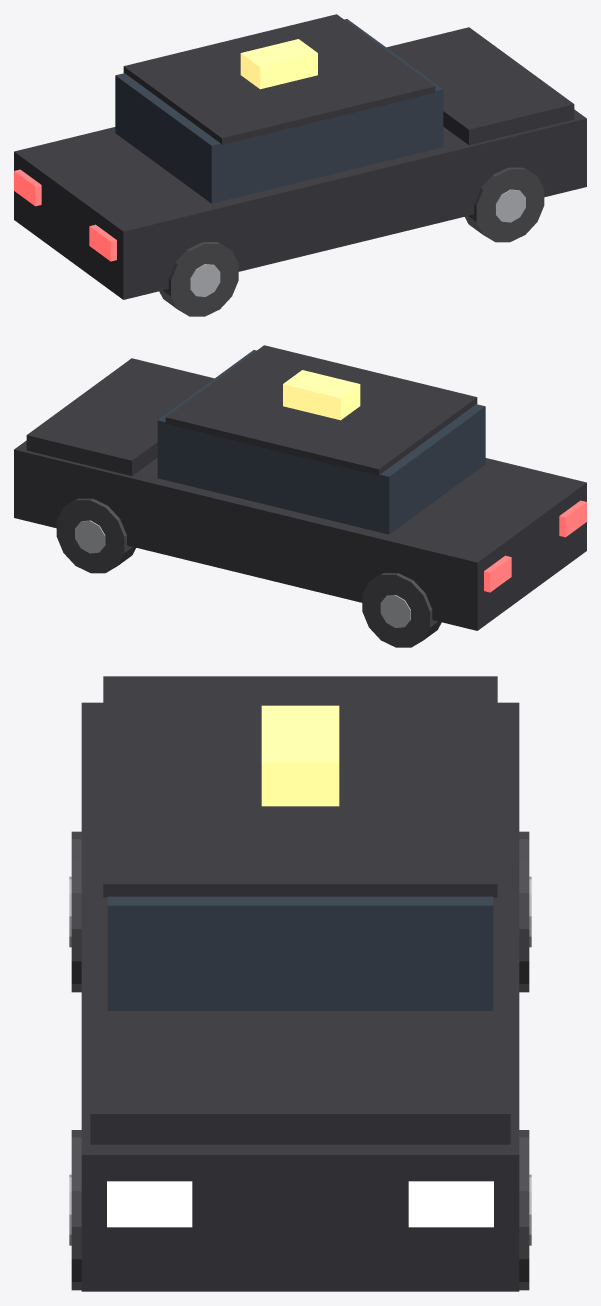
File: bt-car-taxi.glb
3 renders of one model, top to bottom at view 1: azimuth 30°, elevation 25°; view 2: azimuth 150°, elevation 25°; view 3: azimuth 270°, elevation 25°, orthographic. The views are drawn at different scales.
Parts seen in each view (by area): view 1: body, cabin, roof, hood, wheel_0_-1, wheel_1_-1, roofsign, hub_0_-1, hub_1_-1, tail_-1, tail_1; view 2: body, cabin, roof, hood, wheel_0_1, wheel_1_1, roofsign, hub_0_1, hub_1_1, tail_1, tail_-1; view 3: roof, body, hood, cabin, roofsign, head_1, head_-1, wheel_1_1, wheel_1_-1, wheel_0_1, wheel_0_-1.
Part boxes in pixels (x1,y1,x2,y2): body: (14,109,586,299); cabin: (115,19,443,203); roof: (123,14,435,144); hood: (386,27,574,144); wheel_0_-1: (465,167,544,242); wheel_1_-1: (159,242,238,316); roofsign: (240,39,317,89); hub_0_-1: (495,189,525,222); hub_1_-1: (190,264,220,296); tail_-1: (89,224,116,261); tail_1: (14,169,41,206); body: (14,440,586,630); cabin: (157,350,485,534); roof: (165,345,477,475); hood: (26,358,214,475); wheel_0_1: (56,498,135,573); wheel_1_1: (362,573,441,647); roofsign: (283,370,360,420); hub_0_1: (75,520,105,553); hub_1_1: (380,595,410,627); tail_1: (484,555,511,592); tail_-1: (559,500,586,537); roof: (103,676,497,897); body: (81,702,519,1291); hood: (90,1011,510,1144); cabin: (107,896,493,1010); roofsign: (261,705,339,806); head_1: (408,1181,493,1227); head_-1: (107,1181,192,1227); wheel_1_1: (519,831,529,992); wheel_1_-1: (71,831,81,992); wheel_0_1: (519,1130,529,1290); wheel_0_-1: (71,1130,81,1290).
Size of the model in its own units: 4.52 by 1.72 by 1.9.
